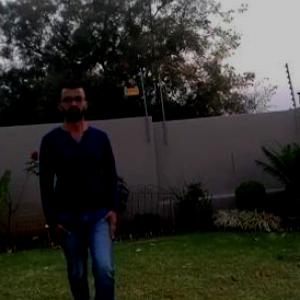follow: (45, 90, 117, 299)
